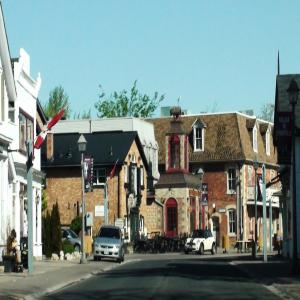Vehicle-registration-plate: (104, 250, 110, 256)
